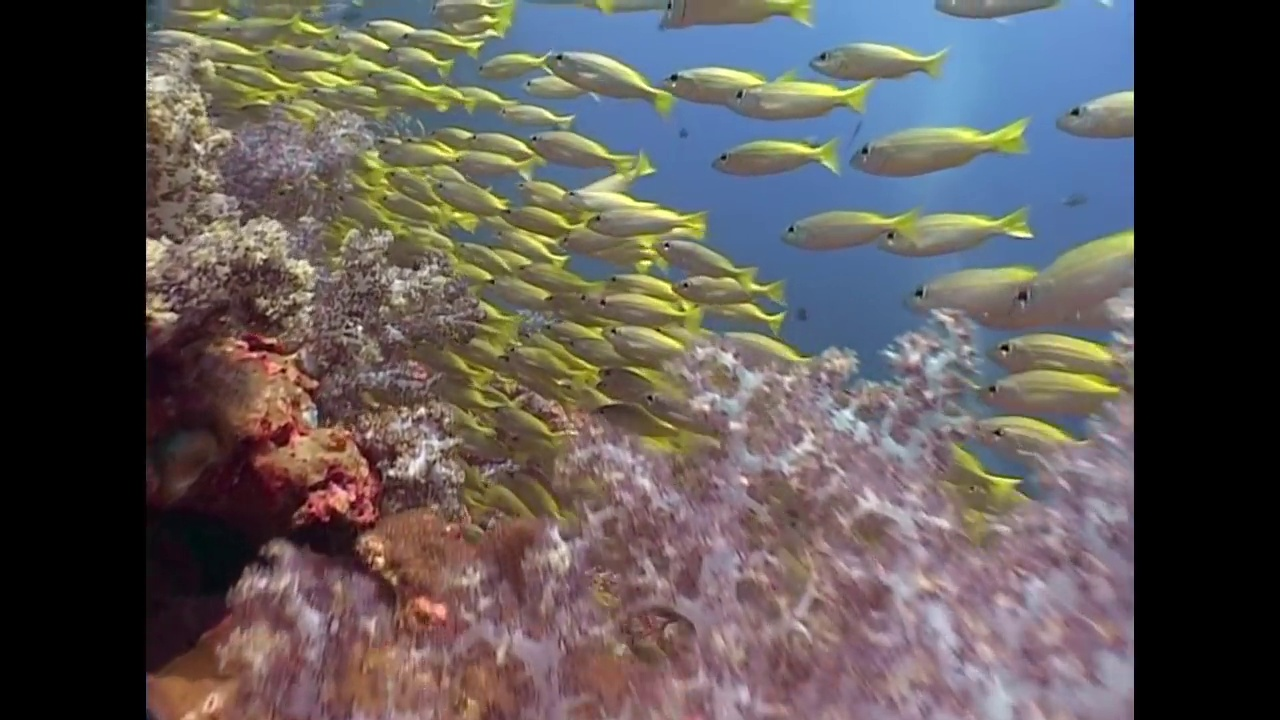big eye snapper: (537, 39, 676, 114), (1008, 244, 1131, 328), (845, 121, 1026, 177), (905, 268, 1035, 332), (883, 202, 1036, 255), (802, 30, 949, 84), (728, 68, 874, 117), (973, 367, 1116, 415), (523, 114, 625, 173), (705, 132, 842, 175), (774, 211, 923, 250), (1040, 77, 1131, 137), (657, 57, 768, 106), (959, 403, 1089, 441), (678, 264, 786, 309), (586, 287, 704, 328), (585, 198, 705, 238), (651, 235, 771, 275), (604, 317, 693, 364), (427, 167, 505, 216), (993, 344, 1111, 376), (359, 61, 442, 106), (445, 137, 529, 180), (368, 126, 456, 166), (475, 265, 551, 308), (501, 197, 580, 238), (493, 231, 568, 266), (513, 170, 576, 211), (216, 57, 287, 93), (502, 99, 576, 130), (396, 20, 470, 51), (519, 68, 590, 100), (476, 46, 549, 74)
